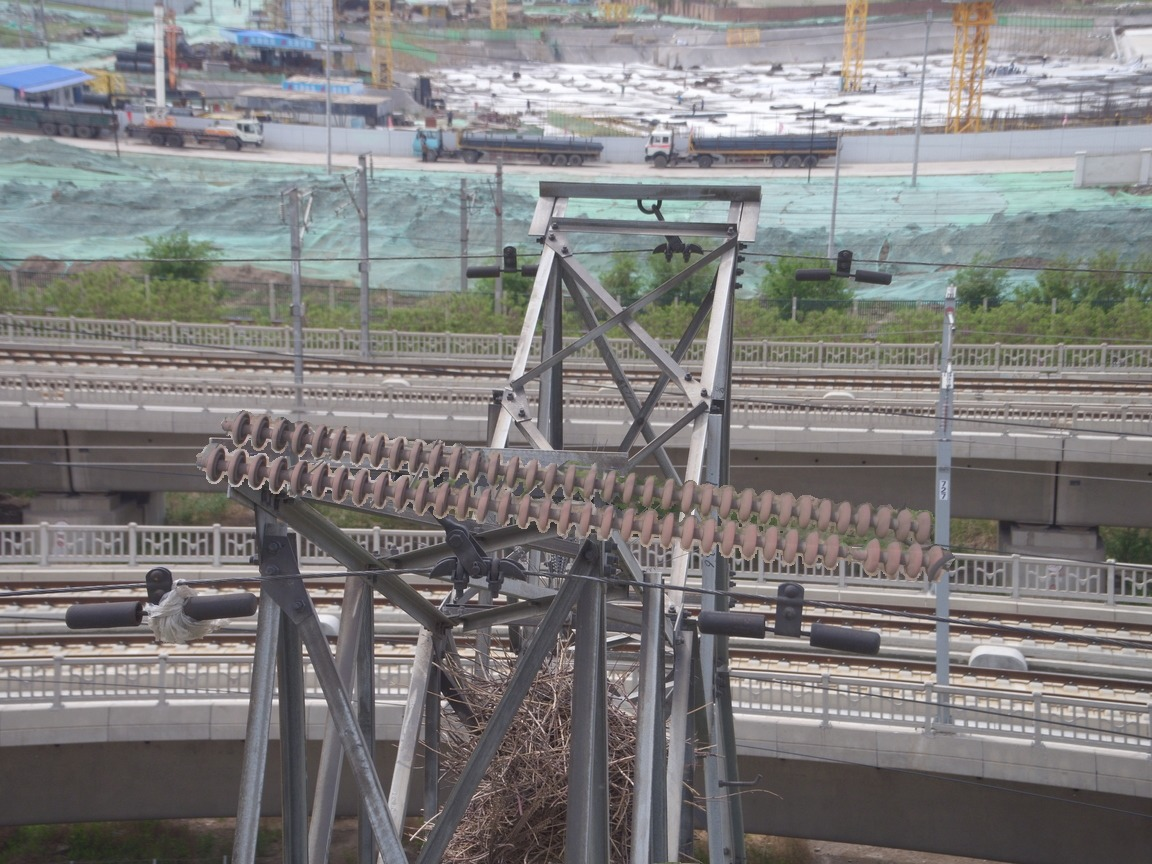defect: (817, 530, 889, 576)
